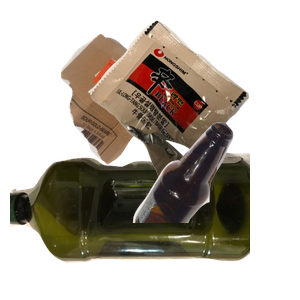cardboard: (58, 31, 222, 188)
glass: (130, 120, 300, 300)
plastic: (10, 149, 250, 300)
trash: (86, 18, 300, 194)
